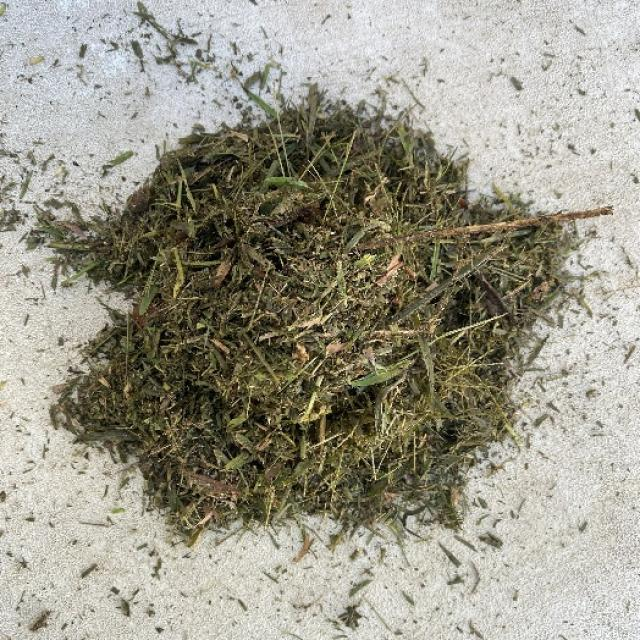organik: (112, 107, 519, 538)
